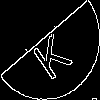K: (25, 24, 74, 82)
